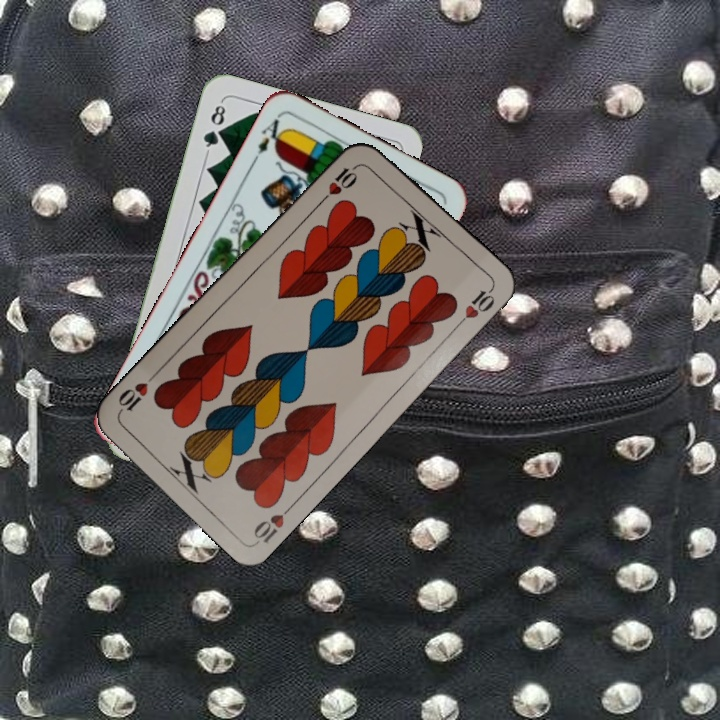EA: (248, 111, 290, 166)
G8: (199, 98, 228, 156)
H10: (249, 499, 298, 546), (315, 160, 361, 207)
